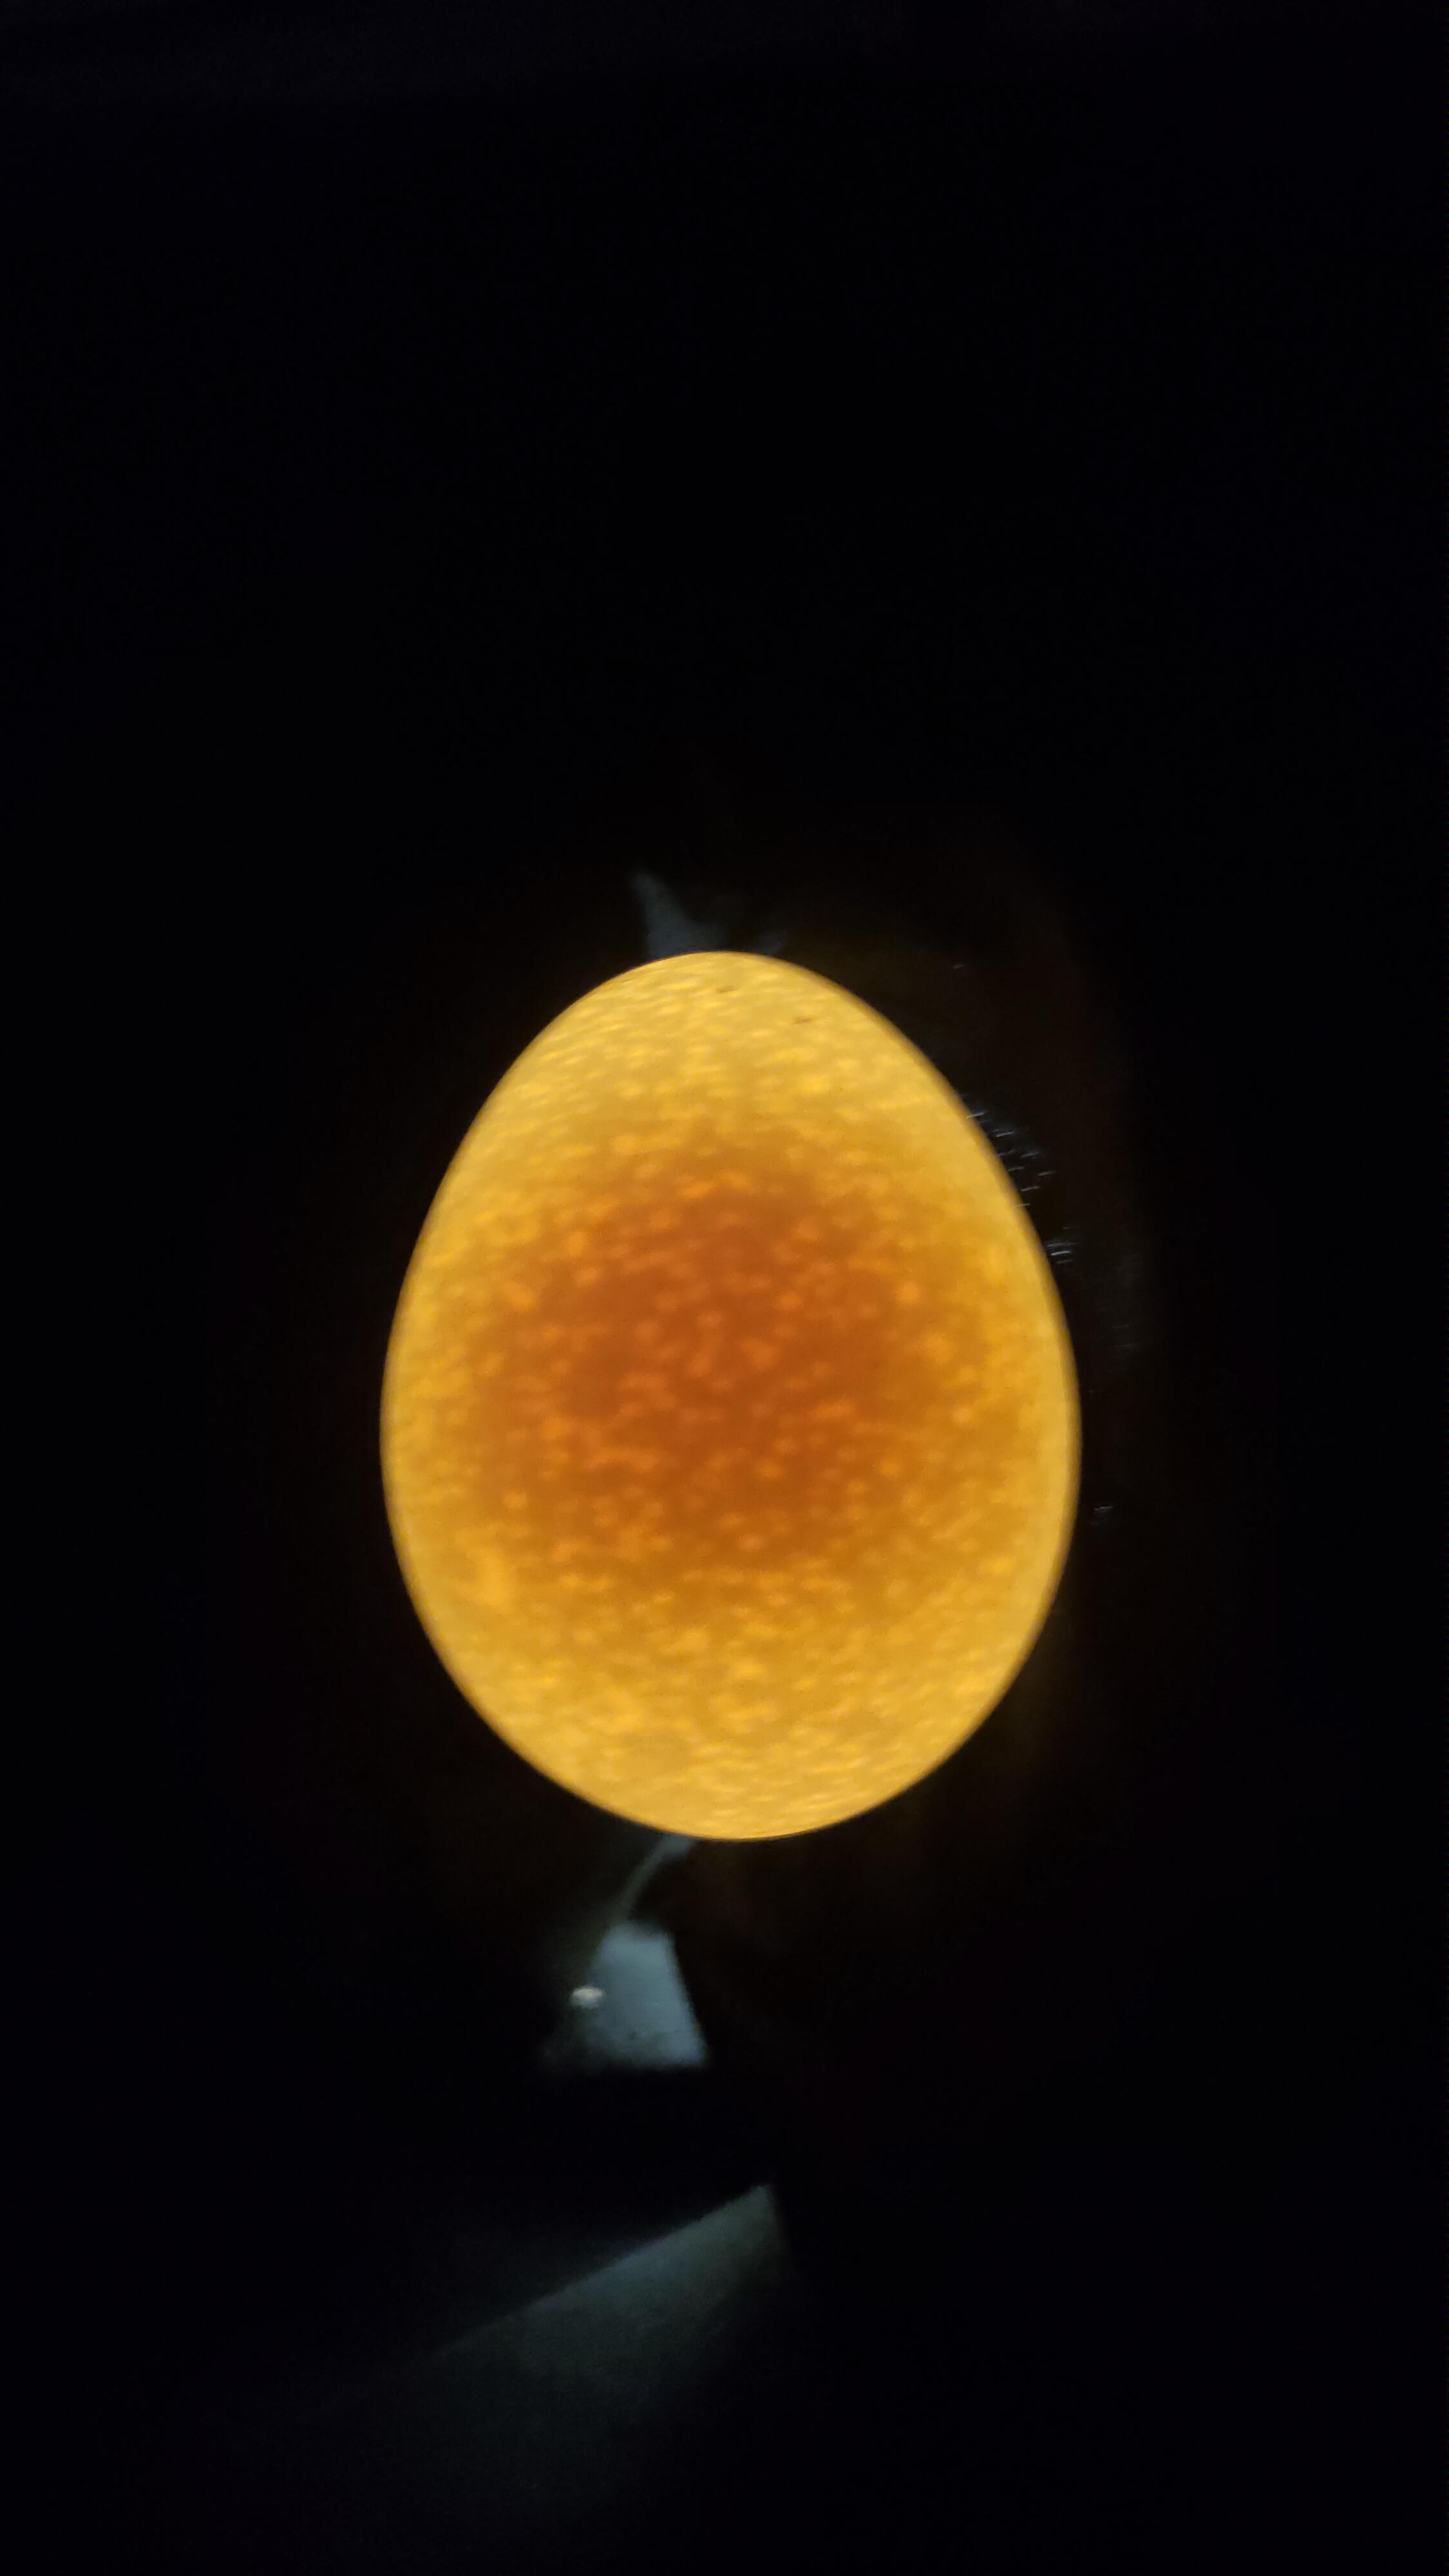A - Good: (329, 908, 1134, 1888)
